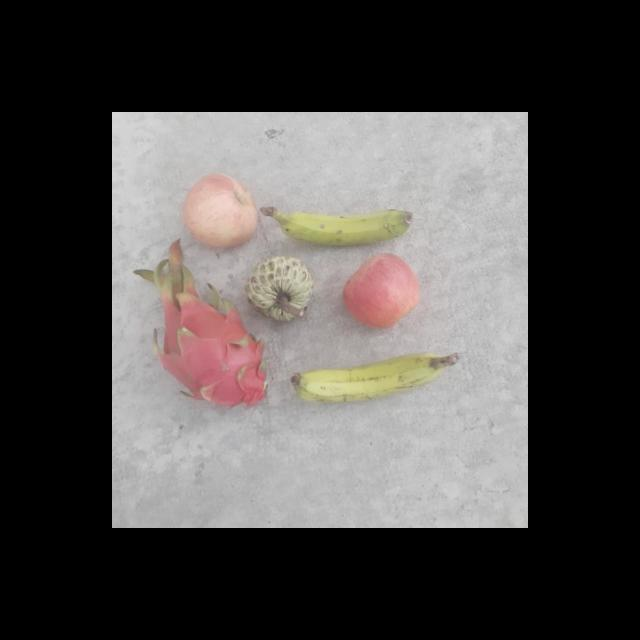Sakya fruit: (244, 254, 318, 325)
apple: (178, 165, 264, 252), (345, 254, 421, 328)
banana: (288, 348, 438, 412), (277, 198, 414, 250)
pitaya: (154, 290, 273, 416)
